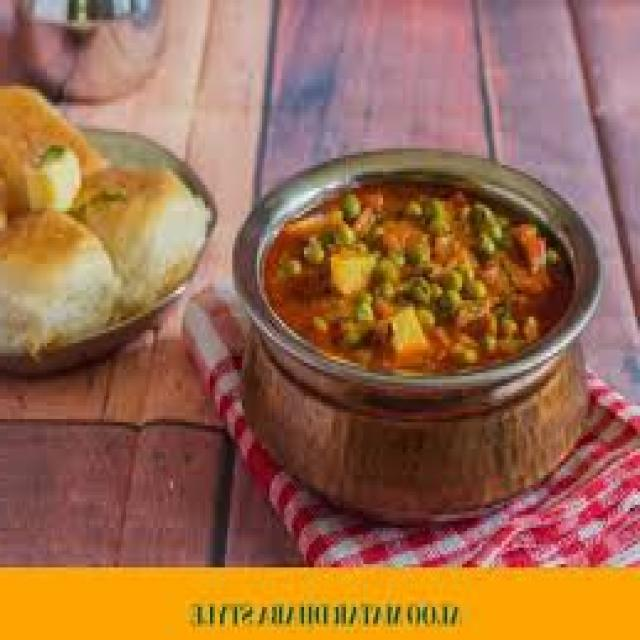Aloo Matar: (270, 184, 576, 376)
